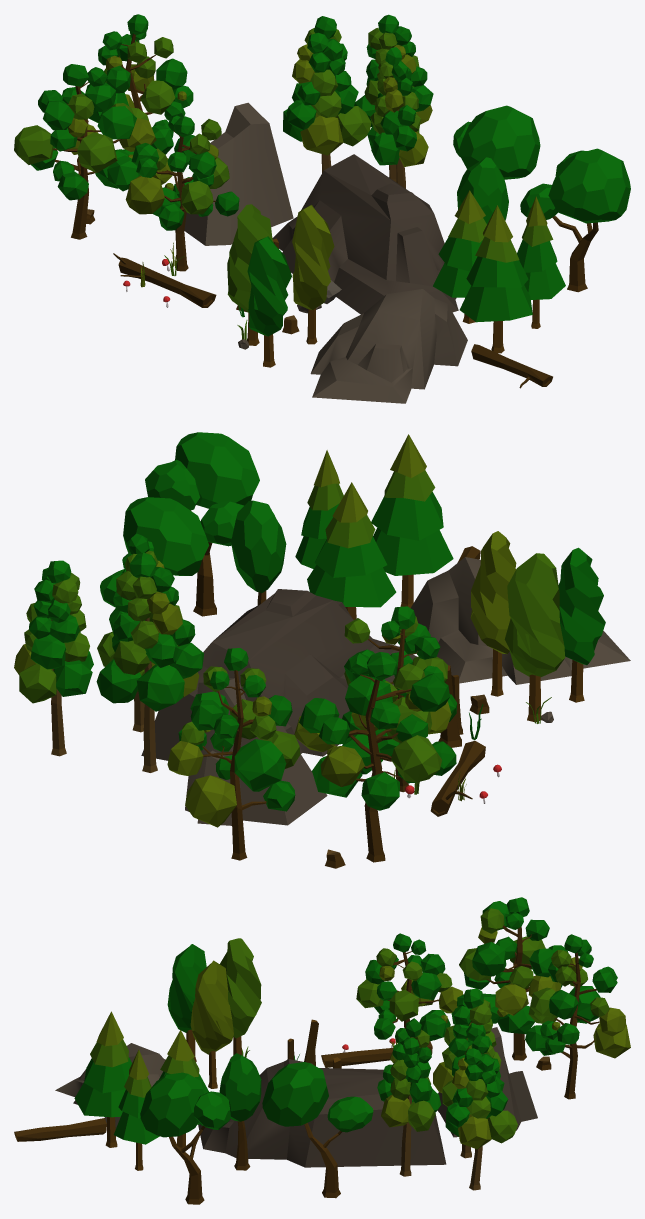
File: Lowpoly Forest Singles.fbx
3 views of the same model, one above another, from view 1: azimuth 30°, elevation 25°; view 2: azimuth 150°, elevation 25°; view 3: azimuth 270°, elevation 25° (orthographic). The views are drawn at different scales.
Parts seen in each view (by area): view 1: Big_rock_1, Big_rock_2, Tree_4_2, Tree_4_1, Tree_3_2, Big_rock_3, Tree_2_1, Tree_4_3, Tree_1_2, Tree_3_1, Tree_2_3, Tree_5_3 (+8 smaller); view 2: Tree_4_2, Big_rock_1, Tree_4_3, Tree_3_2, Tree_2_1, Tree_3_3, Big_rock_2, Tree_1_2, Tree_1_1, Tree_5_2, Tree_4_1, Tree_2_3 (+7 smaller); view 3: Big_rock_1, Tree_4_2, Tree_4_3, Tree_4_1, Tree_3_3, Tree_2_3, Tree_3_1, Tree_2_1, Tree_1_2, Tree_3_2, Tree_5_3, Tree_5_2 (+8 smaller).
Part boxes in pixels (left/top/right/bottom): Big_rock_1: left=272, top=154, right=458, bottom=314; Big_rock_2: left=310, top=289, right=467, bottom=403; Tree_4_2: left=14, top=64, right=156, bottom=239; Tree_4_1: left=125, top=115, right=239, bottom=271; Tree_3_2: left=283, top=16, right=371, bottom=172; Big_rock_3: left=184, top=102, right=293, bottom=245; Tree_2_1: left=520, top=148, right=630, bottom=292; Tree_4_3: left=88, top=14, right=193, bottom=154; Tree_1_2: left=459, top=205, right=532, bottom=353; Tree_3_1: left=367, top=47, right=428, bottom=188; Tree_2_3: left=453, top=105, right=540, bottom=179; Tree_5_3: left=292, top=205, right=334, bottom=344; Tree_4_2: left=294, top=652, right=456, bottom=862; Big_rock_1: left=141, top=589, right=416, bottom=760; Tree_4_3: left=167, top=648, right=300, bottom=860; Tree_3_2: left=96, top=552, right=204, bottom=772; Tree_2_1: left=145, top=432, right=259, bottom=616; Tree_3_3: left=14, top=560, right=93, bottom=756; Big_rock_2: left=411, top=557, right=630, bottom=684; Tree_1_2: left=371, top=434, right=453, bottom=607; Tree_1_1: left=307, top=482, right=396, bottom=619; Tree_5_2: left=504, top=553, right=565, bottom=721; Tree_4_1: left=342, top=606, right=457, bottom=792; Tree_2_3: left=100, top=497, right=209, bottom=606; Big_rock_1: left=198, top=1059, right=446, bottom=1167; Tree_4_2: left=459, top=897, right=568, bottom=1060; Tree_4_3: left=525, top=934, right=630, bottom=1099; Tree_4_1: left=356, top=933, right=463, bottom=1041; Tree_3_3: left=445, top=1035, right=517, bottom=1190; Tree_2_3: left=262, top=1062, right=373, bottom=1198; Tree_3_1: left=377, top=1018, right=441, bottom=1176; Tree_2_1: left=140, top=1072, right=230, bottom=1204; Tree_1_2: left=74, top=1011, right=131, bottom=1147; Tree_3_2: left=433, top=988, right=504, bottom=1158; Tree_5_3: left=190, top=960, right=233, bottom=1088; Tree_5_2: left=220, top=938, right=261, bottom=1055.
Size of the model in its own units: 434 by 183 by 604.
